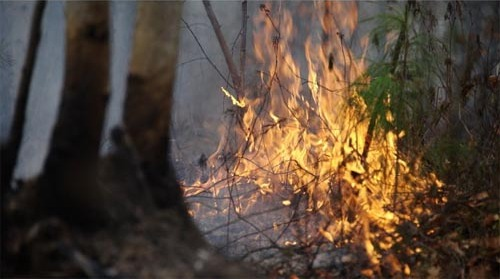fire: (189, 16, 445, 241)
